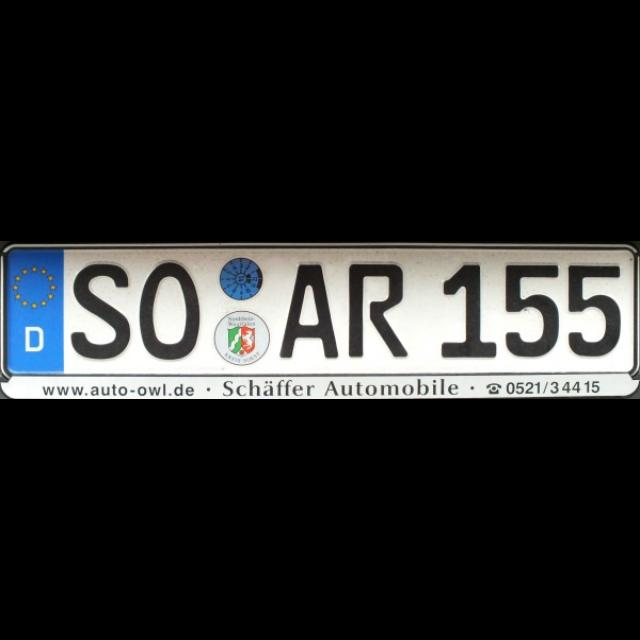d_license_plate: (4, 247, 634, 376)
